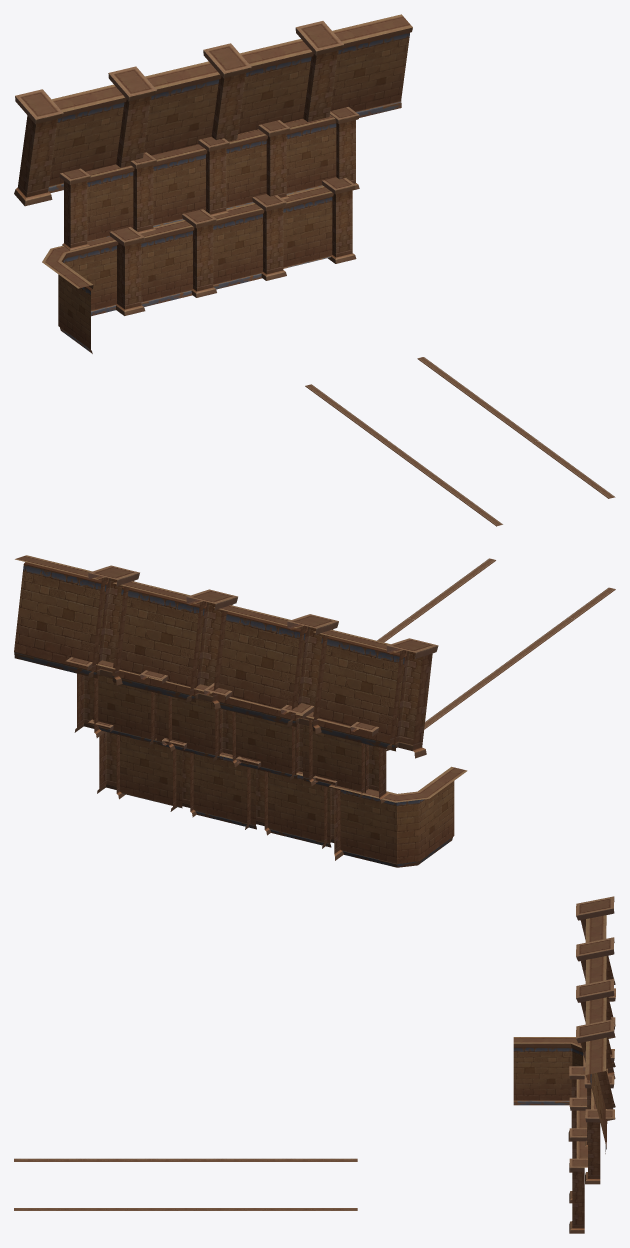
Rendered from Area_03_1.FBX.
3 renders of one model, top to bottom at view 1: azimuth 30°, elevation 25°; view 2: azimuth 150°, elevation 25°; view 3: azimuth 270°, elevation 25°, orthographic. The views are drawn at different scales.
Parts seen in each view (by area): view 1: Area_03_1; view 2: Area_03_1; view 3: Area_03_1.
Boxes of the visible parts, <box> form: Area_03_1: <box>14,14,615,526</box>; Area_03_1: <box>14,555,615,867</box>; Area_03_1: <box>14,896,615,1233</box>.
Size of the model in its own units: 4137 by 2303 by 6297.
